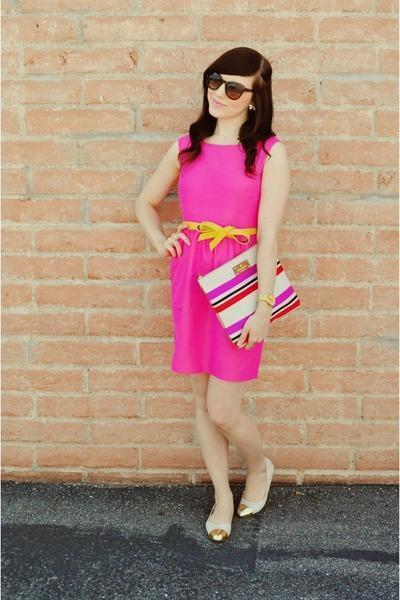bag: (198, 253, 299, 327)
dress: (170, 136, 278, 381)
shoe: (206, 486, 268, 539)
